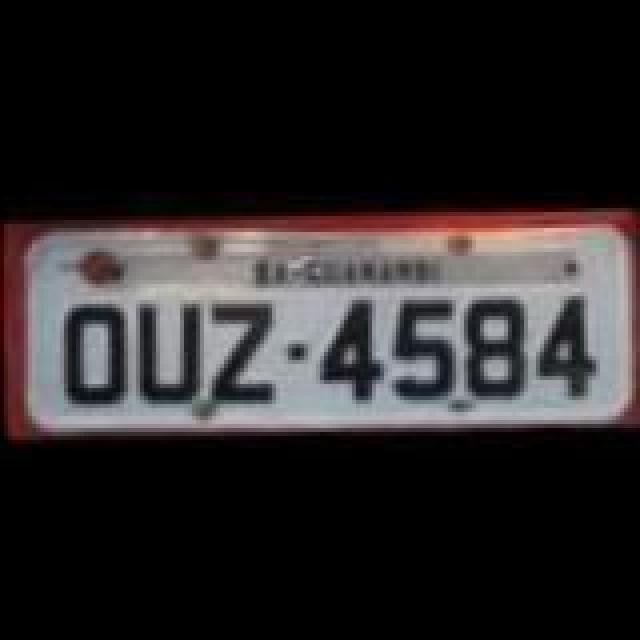4: (308, 292, 384, 404), (536, 292, 604, 400)
5: (390, 296, 462, 404)
8: (460, 292, 536, 400)
O: (64, 302, 132, 414)
U: (132, 296, 208, 408)
Z: (206, 296, 286, 408)
